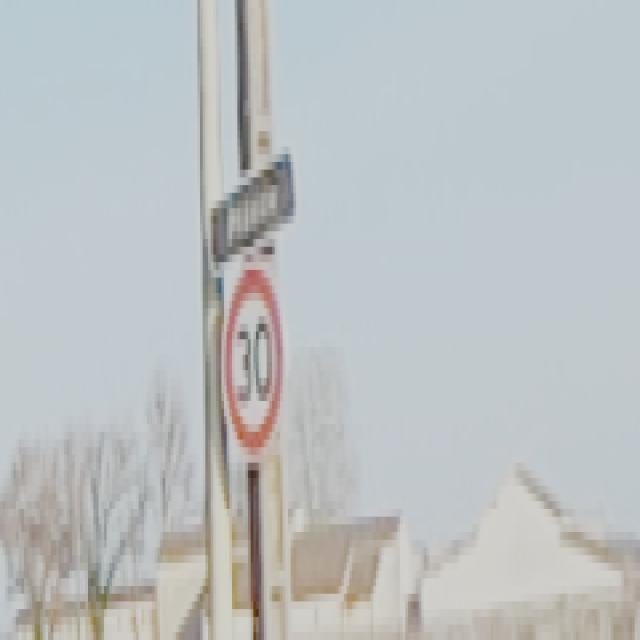speed_30: (221, 263, 287, 462)
